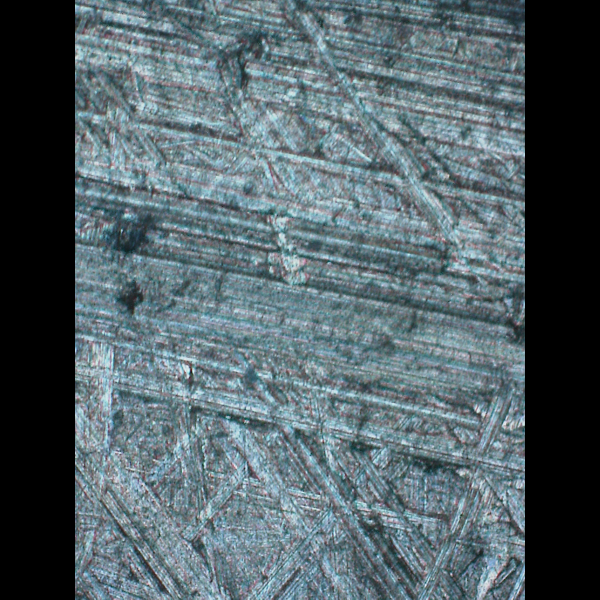d: (85, 334, 525, 600), (199, 0, 461, 295)
